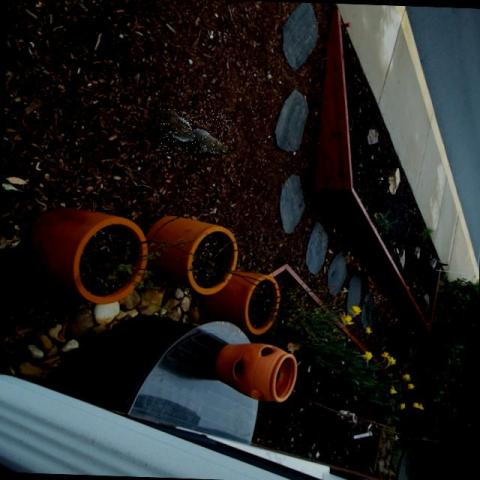small_animal: (162, 107, 230, 161), (340, 250, 372, 280), (428, 255, 450, 272)
